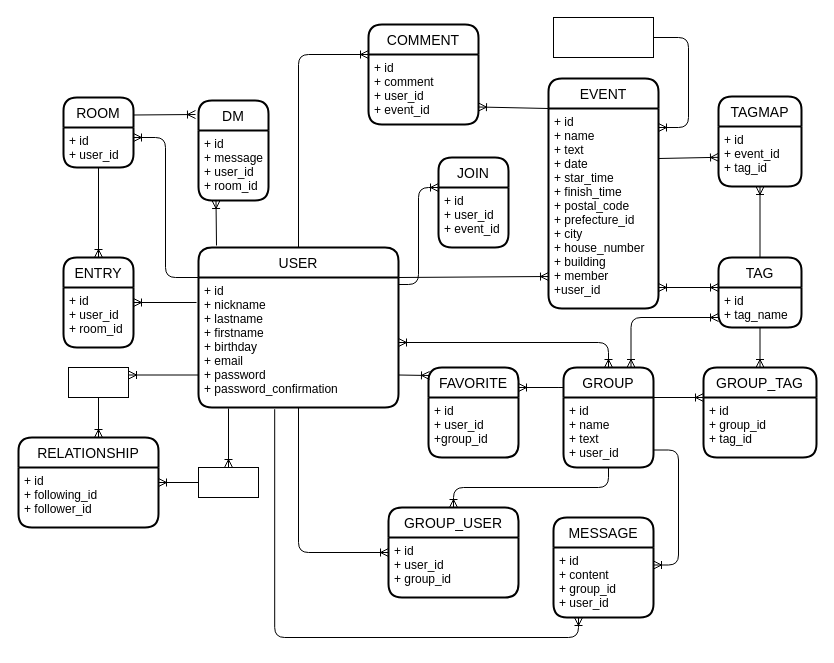
This 834x663 diagram has some shape labels left out. Here are the shapes that lost their labels. From the top down, the centre of each, then its label:
(x=603, y=37): prefecture
(x=98, y=382): following
(x=228, y=482): follower
